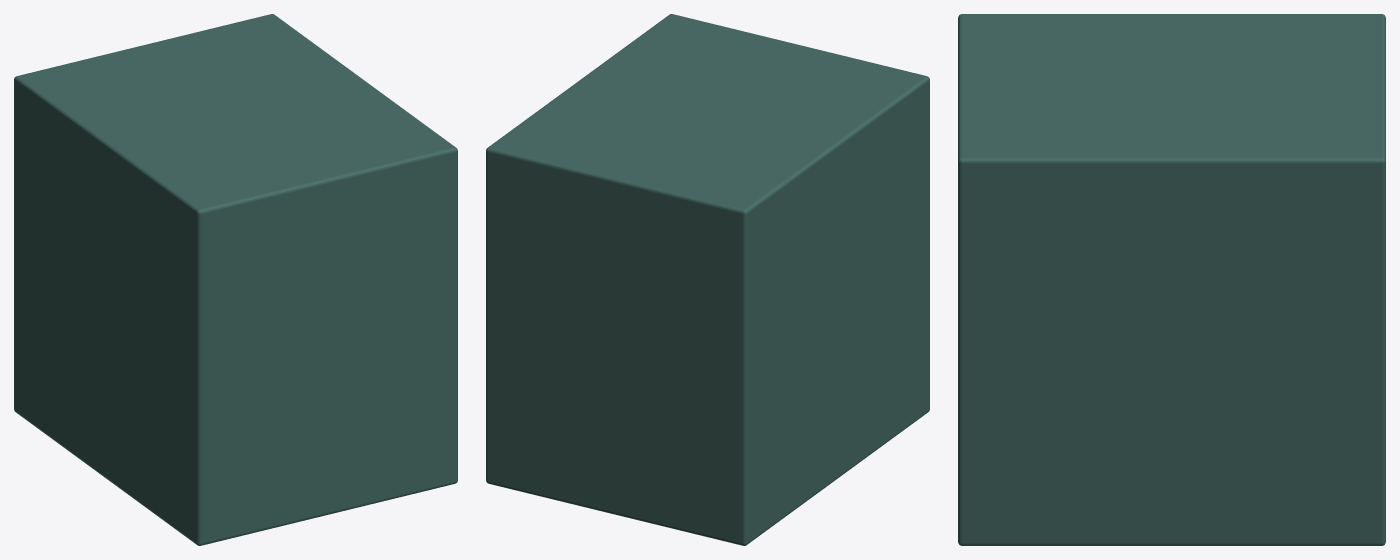
File: liftWeight24.glb
The picture shows the model from 3 angles, left to right: view 1: azimuth 30°, elevation 25°; view 2: azimuth 150°, elevation 25°; view 3: azimuth 270°, elevation 25°; orthographic projection. The views are drawn at different scales.
Parts seen in each view (by area): view 1: liftWeight24; view 2: liftWeight24; view 3: liftWeight24.
Part boxes in pixels (x1=…): liftWeight24: x1=14, y1=14, x2=457, y2=545; liftWeight24: x1=486, y1=14, x2=929, y2=545; liftWeight24: x1=958, y1=14, x2=1385, y2=545.
Size of the model in its own units: 0.026 by 0.032 by 0.032.
